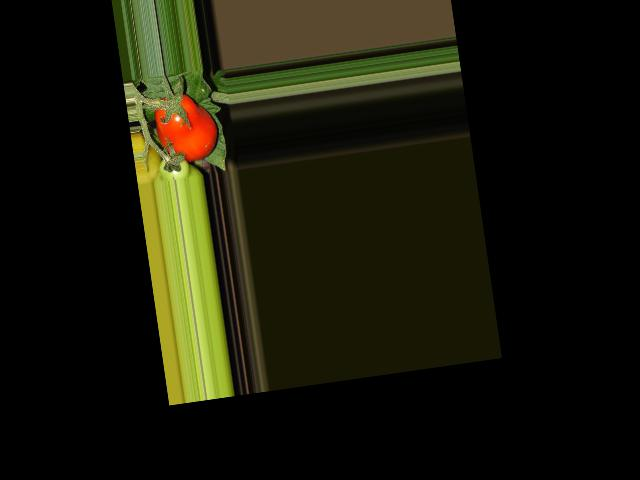tomato: (152, 88, 220, 165)
